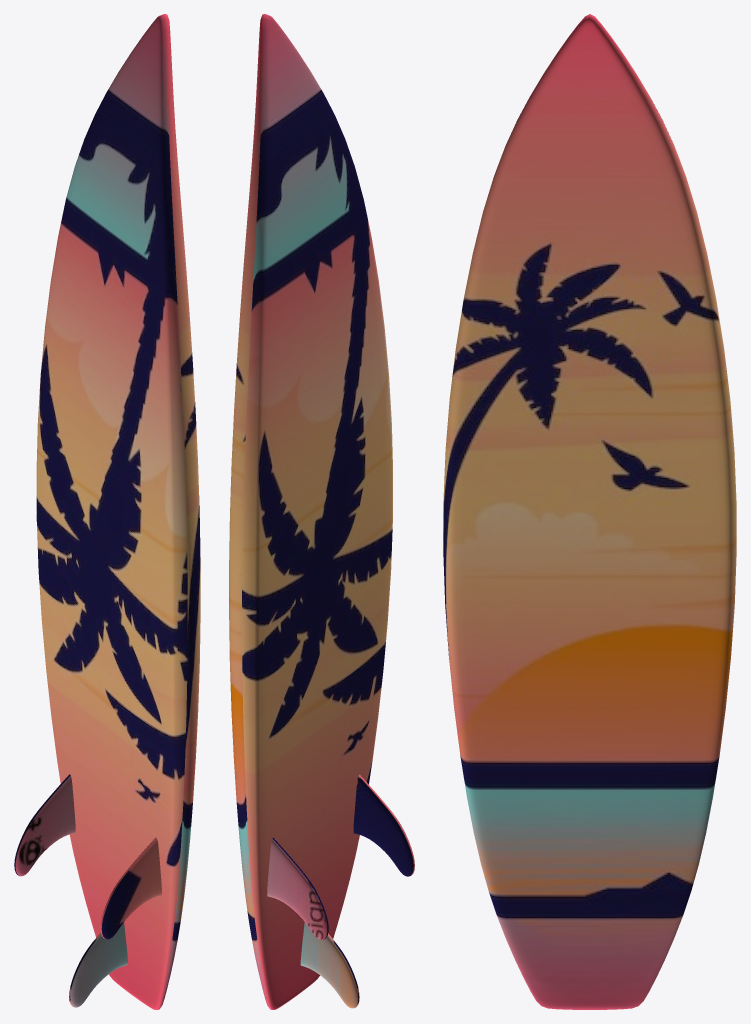
The model's file is Tabla_surf.gltf.
The picture shows the model from 3 angles, left to right: view 1: azimuth 30°, elevation 25°; view 2: azimuth 150°, elevation 25°; view 3: azimuth 270°, elevation 25°; orthographic projection. The views are drawn at different scales.
Parts seen in each view (by area): view 1: 10537_Surfboard_v1_L3; view 2: 10537_Surfboard_v1_L3; view 3: 10537_Surfboard_v1_L3.
Boxes of the visible parts, x1,y1,x2,y2 form: 10537_Surfboard_v1_L3: [14, 14, 200, 1009]; 10537_Surfboard_v1_L3: [229, 14, 414, 1009]; 10537_Surfboard_v1_L3: [443, 14, 736, 1009].
Size of the model in its own units: 0.3178 by 2.69 by 0.7072.
Materials: 1 (1 with a texture image).
